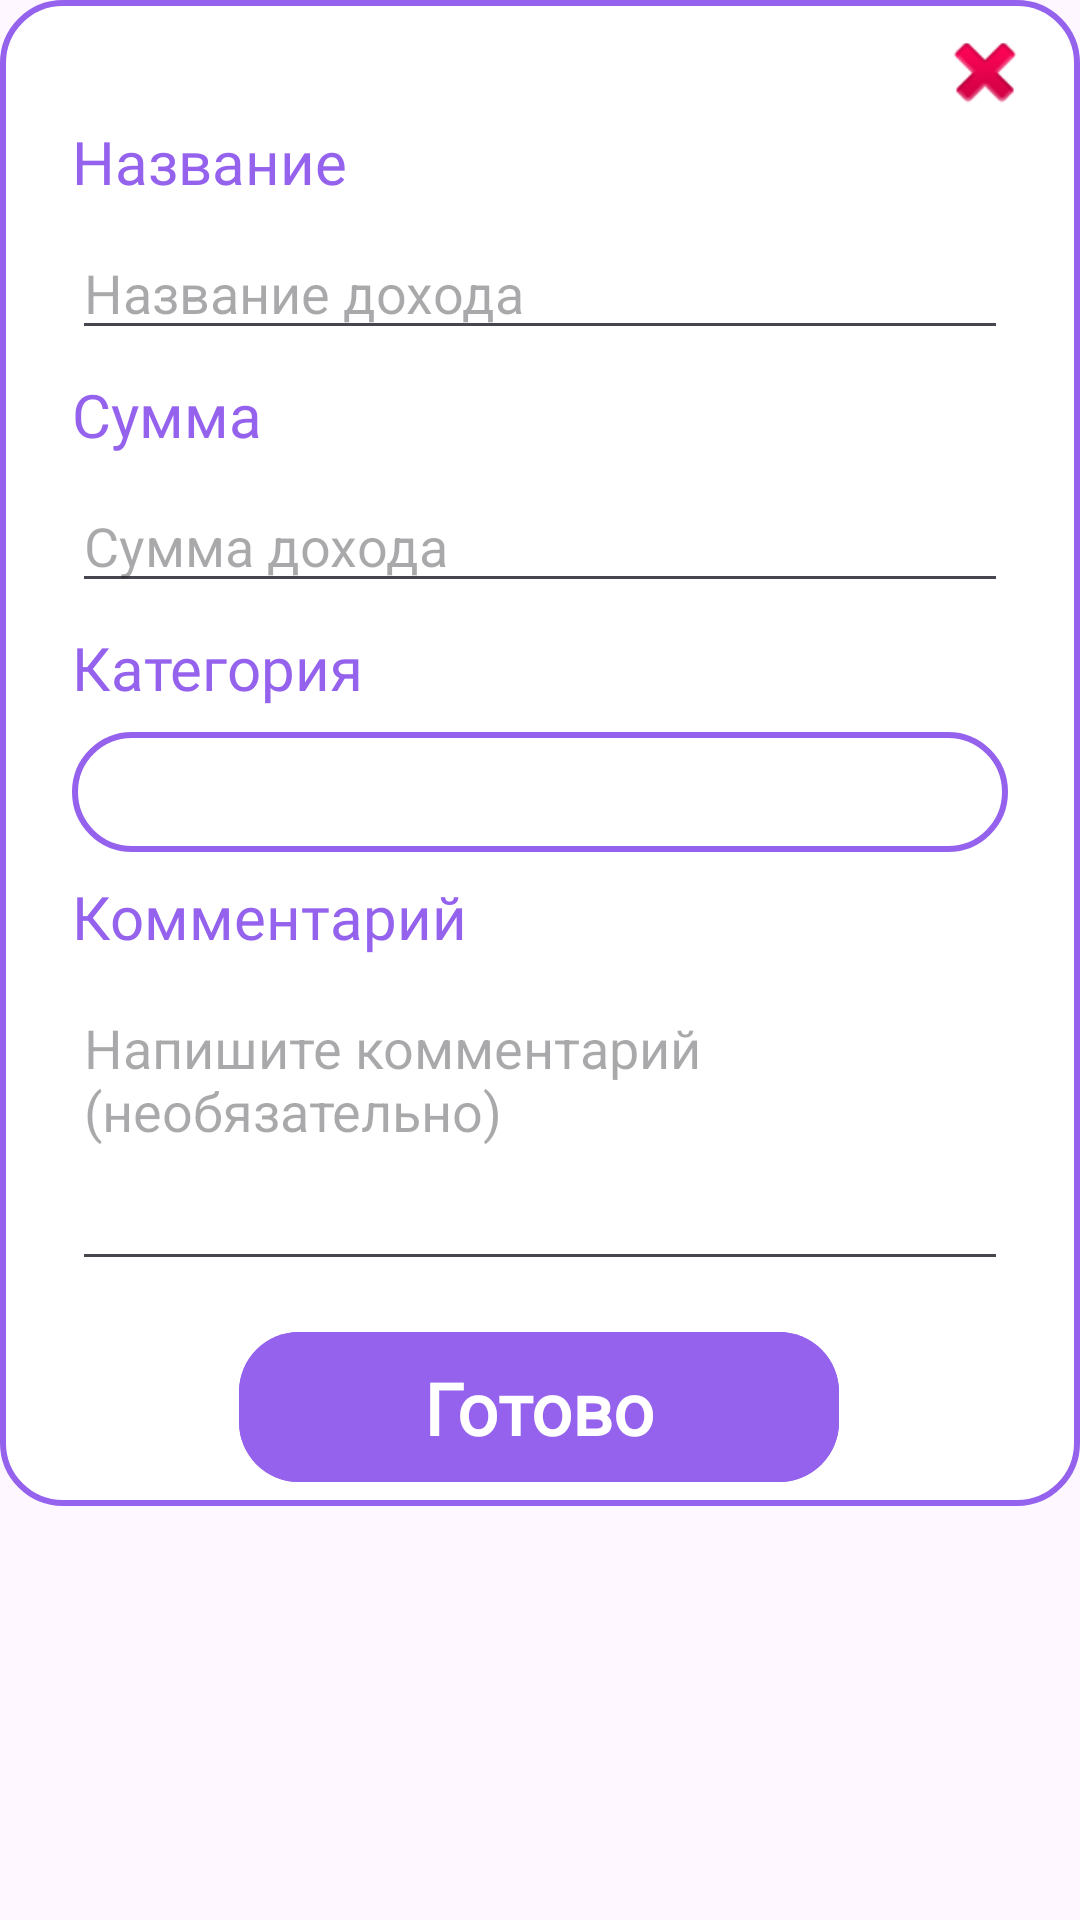

Where icons sit on this 1080px×1920px app screen, as (x1, y1, x2, y2):
delete: (954, 43, 1016, 102)
